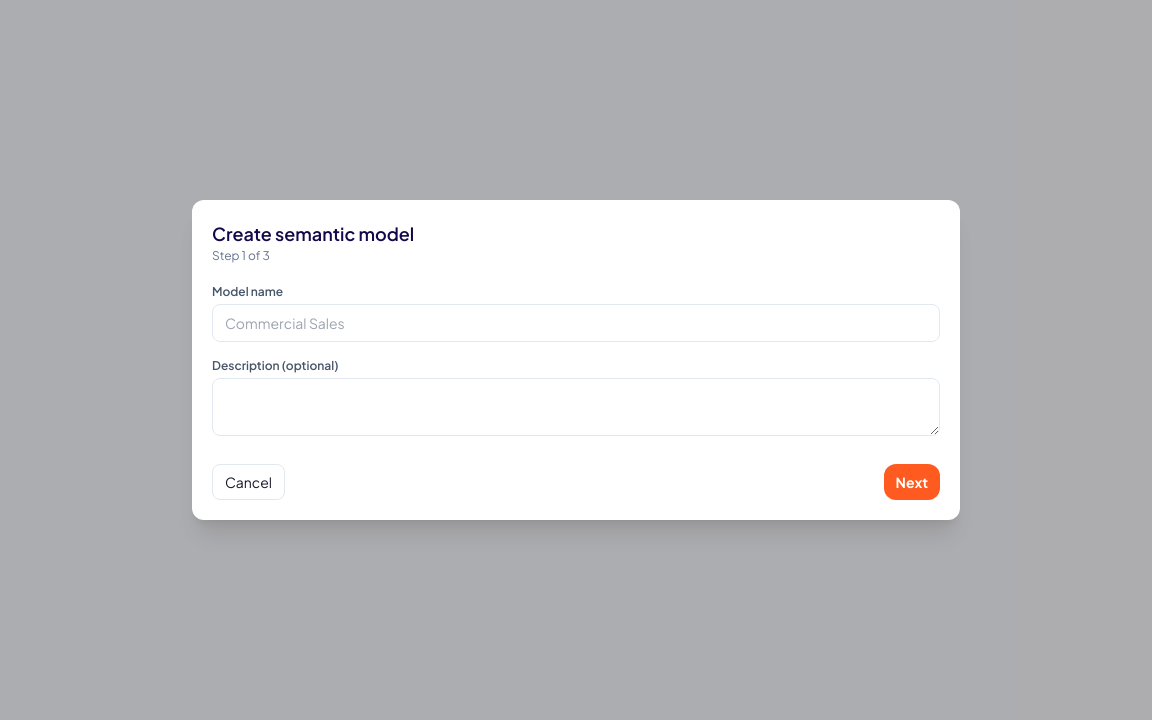
Test case: SEM-2B matrix › SEM-2B-008 suggestions grouped by type
Type "M" into the field with placeholder "Commercial Sales" at [576, 323], box 212,304 -> 940,342
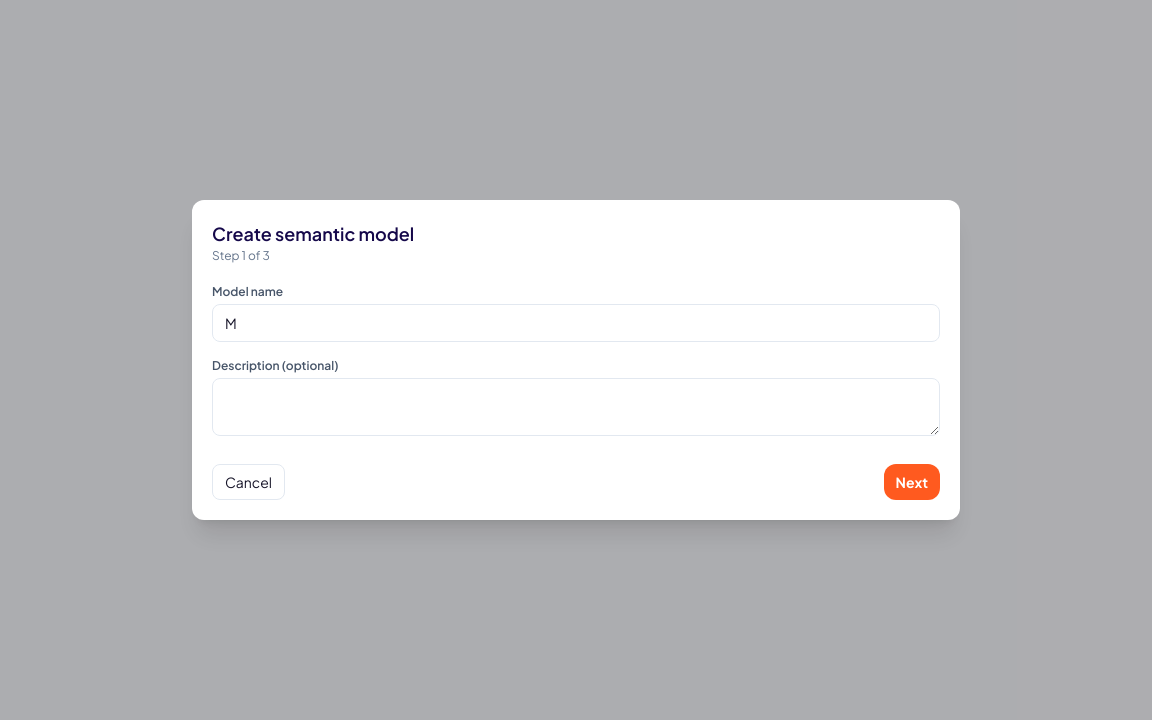
Click the button "Next" at [912, 482], box 884,464 -> 940,500
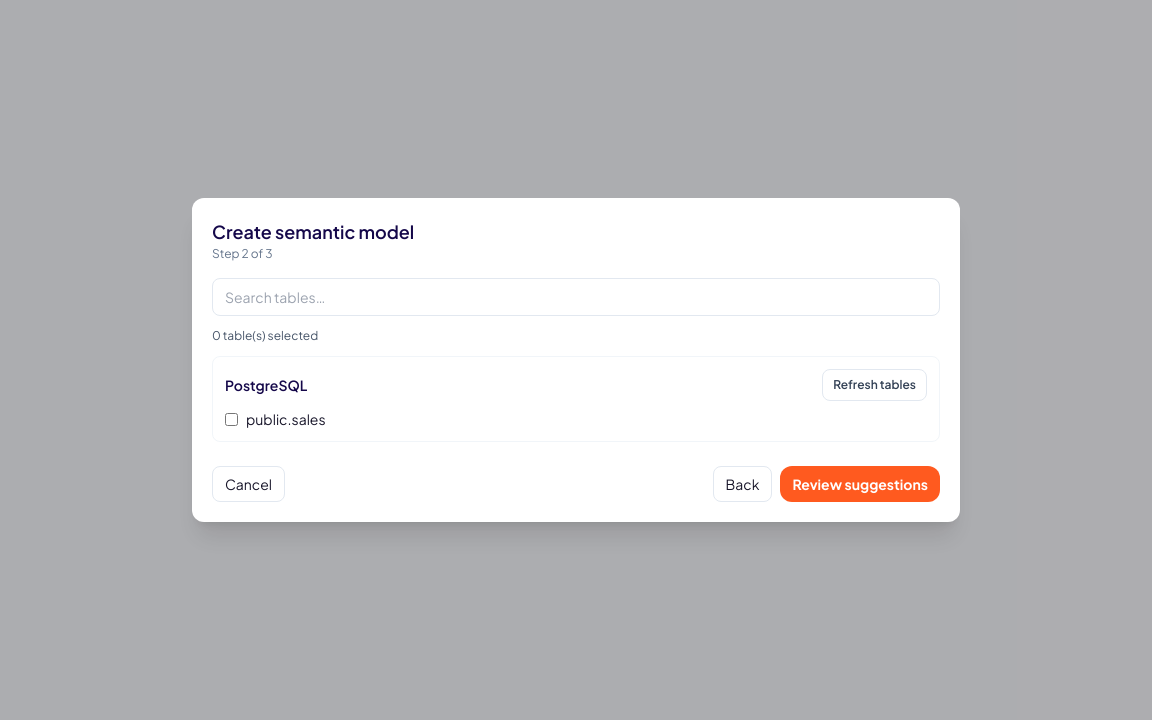
Click the checkbox at [232, 419], box 225,412 -> 238,426
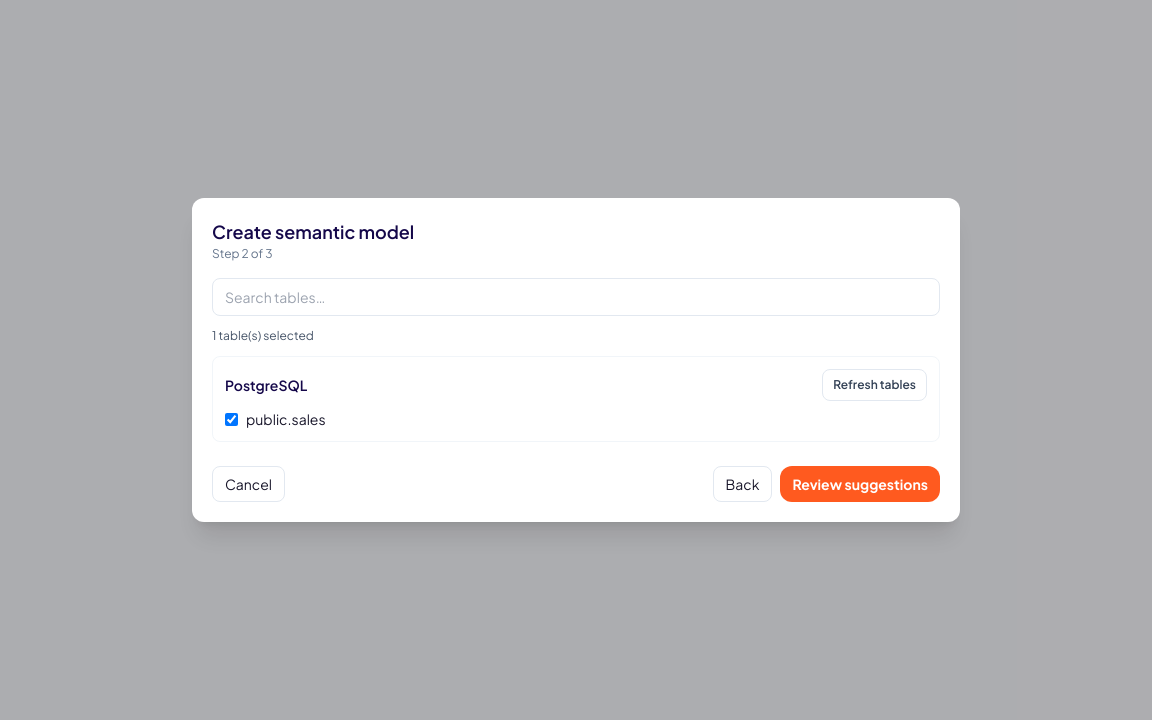
Click the button "Review suggestions" at [860, 484], box 780,466 -> 940,502
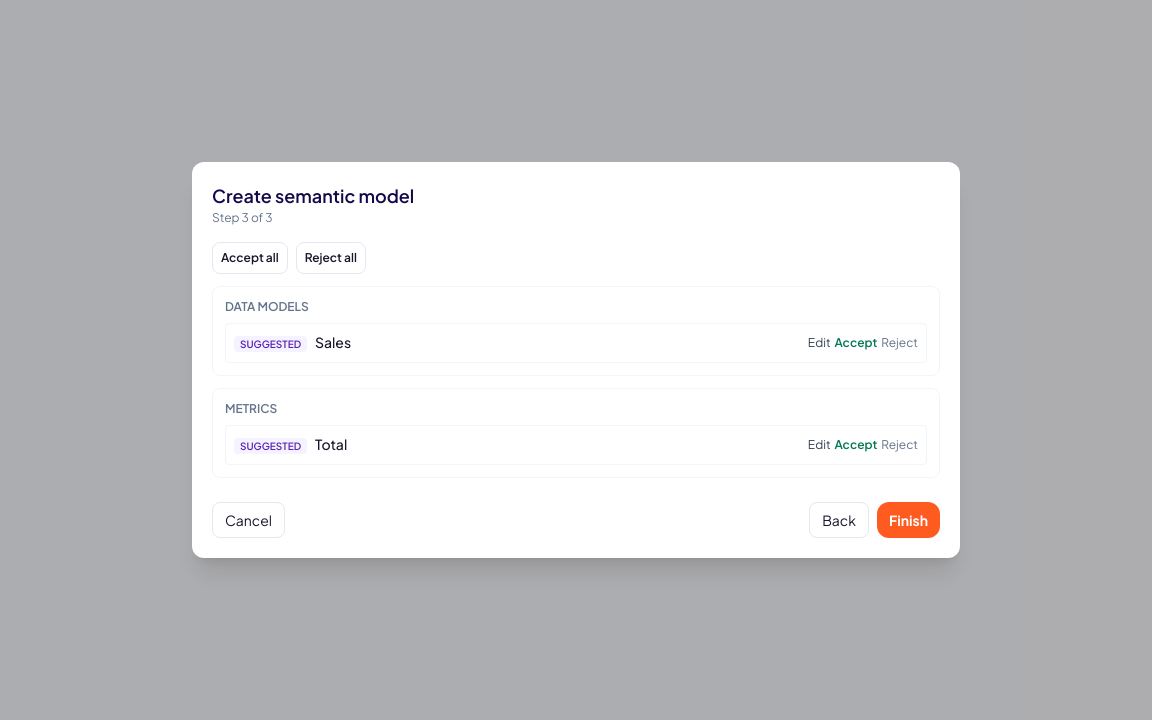
Now the text "Data Models" is shown, box 225,299 -> 309,314
Now the text "Metrics" is shown, box 225,401 -> 277,416
